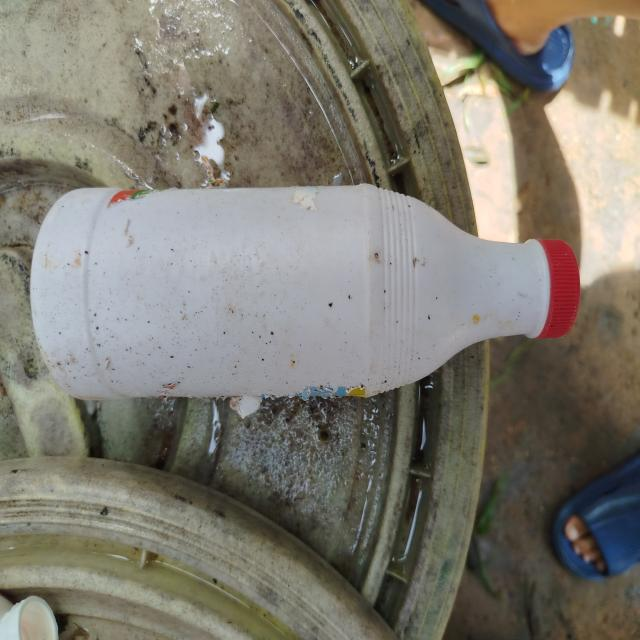plastic: (16, 143, 591, 422)
